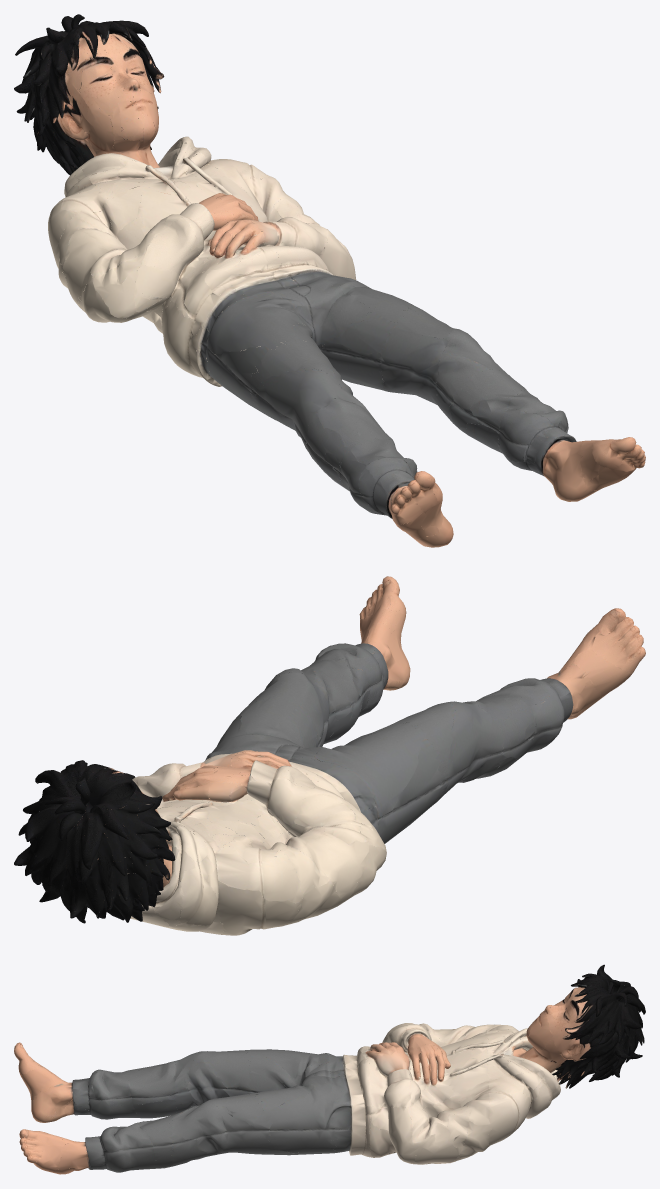
File: sleeping.glb
3 views of the same model, one above another, from view 1: azimuth 30°, elevation 25°; view 2: azimuth 150°, elevation 25°; view 3: azimuth 270°, elevation 25° (orthographic). The views are drawn at different scales.
Visible parts, largest first — view 1: CH_SleepingResident; view 2: CH_SleepingResident; view 3: CH_SleepingResident.
Boxes of the visible parts, x1,y1,x2,y2 form: CH_SleepingResident: (14, 14, 645, 547); CH_SleepingResident: (14, 576, 645, 935); CH_SleepingResident: (14, 964, 645, 1174).
Bounding box in the file's own units: 0.6561 × 0.4888 × 1.78.
Materials: 1 (1 with a texture image).
